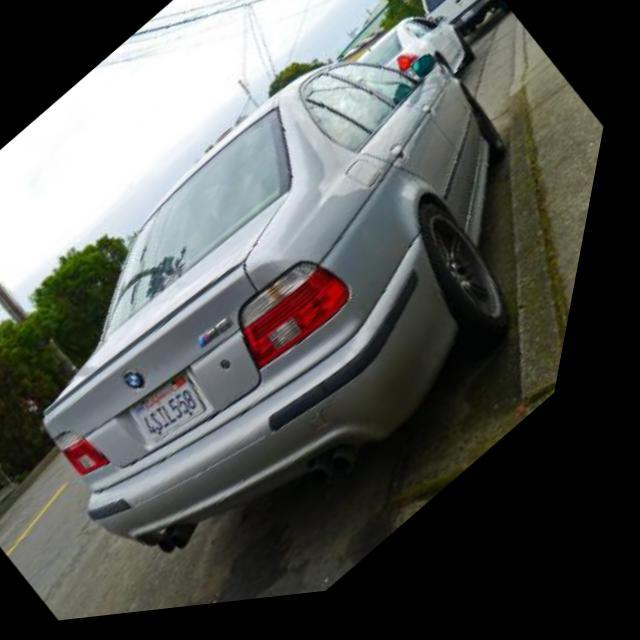license_plate: (136, 364, 238, 461), (462, 18, 478, 33)
